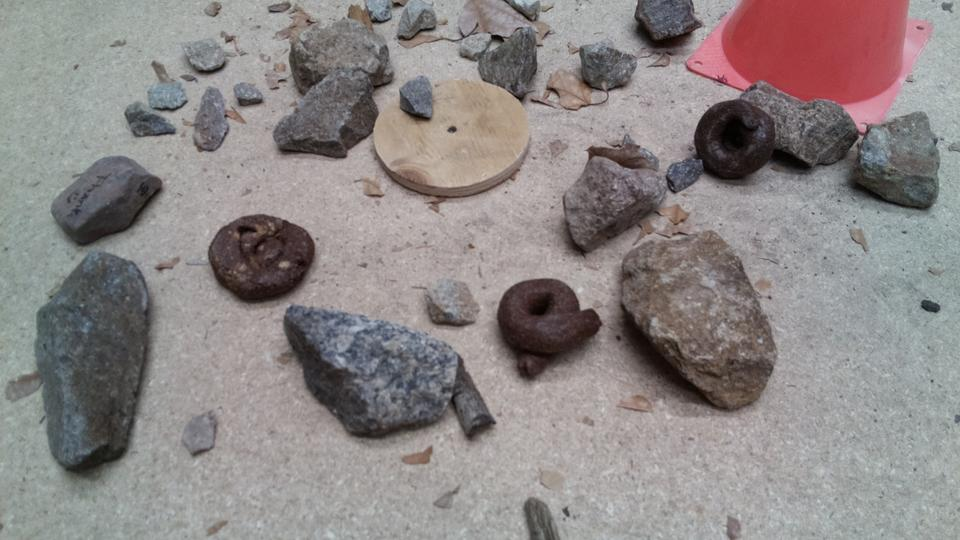poop: (495, 275, 605, 381), (206, 214, 318, 304), (693, 100, 777, 180)
